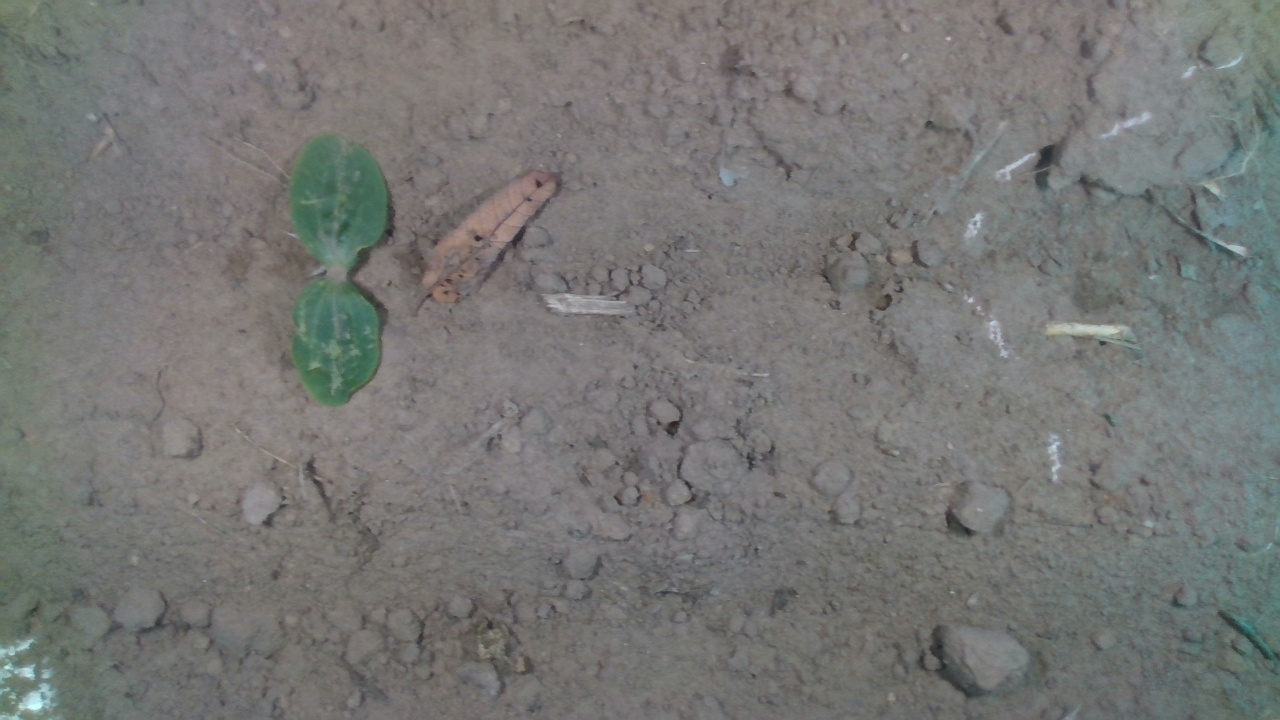crop: (283, 128, 391, 406)
